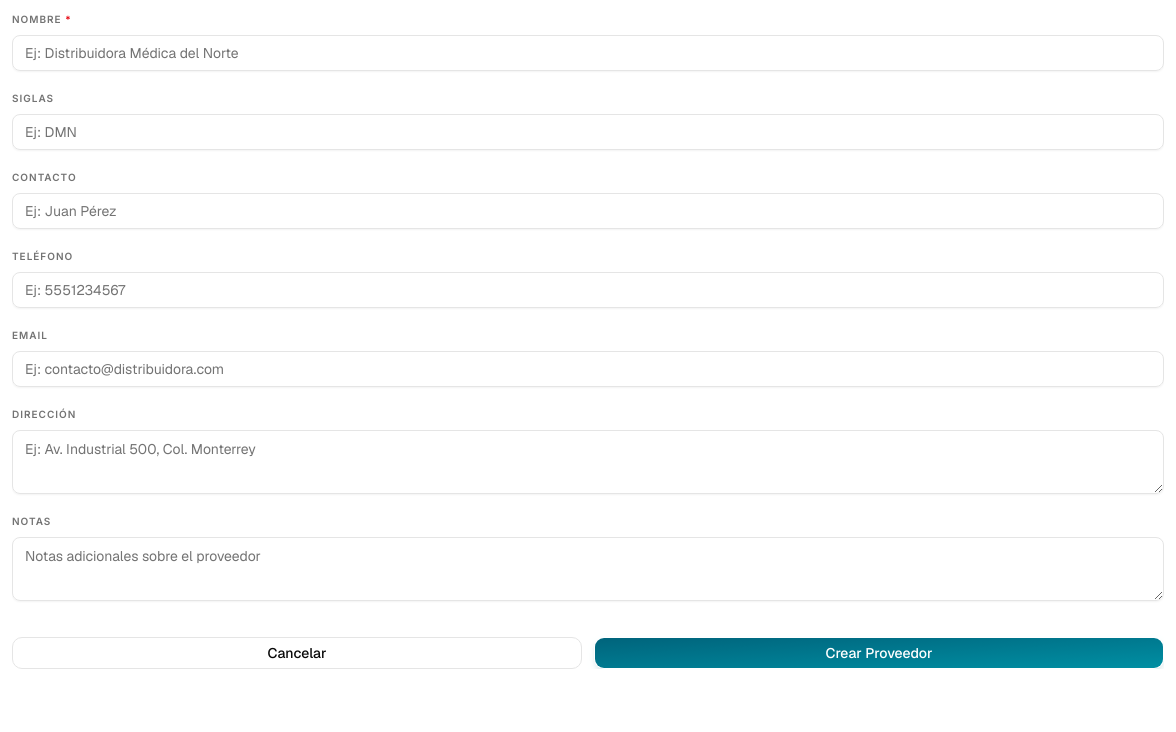
Test: SupplierForm › shows validation error when name is empty on submit
Click the button "Crear Proveedor" at (879, 653), box [594, 637, 1164, 669]
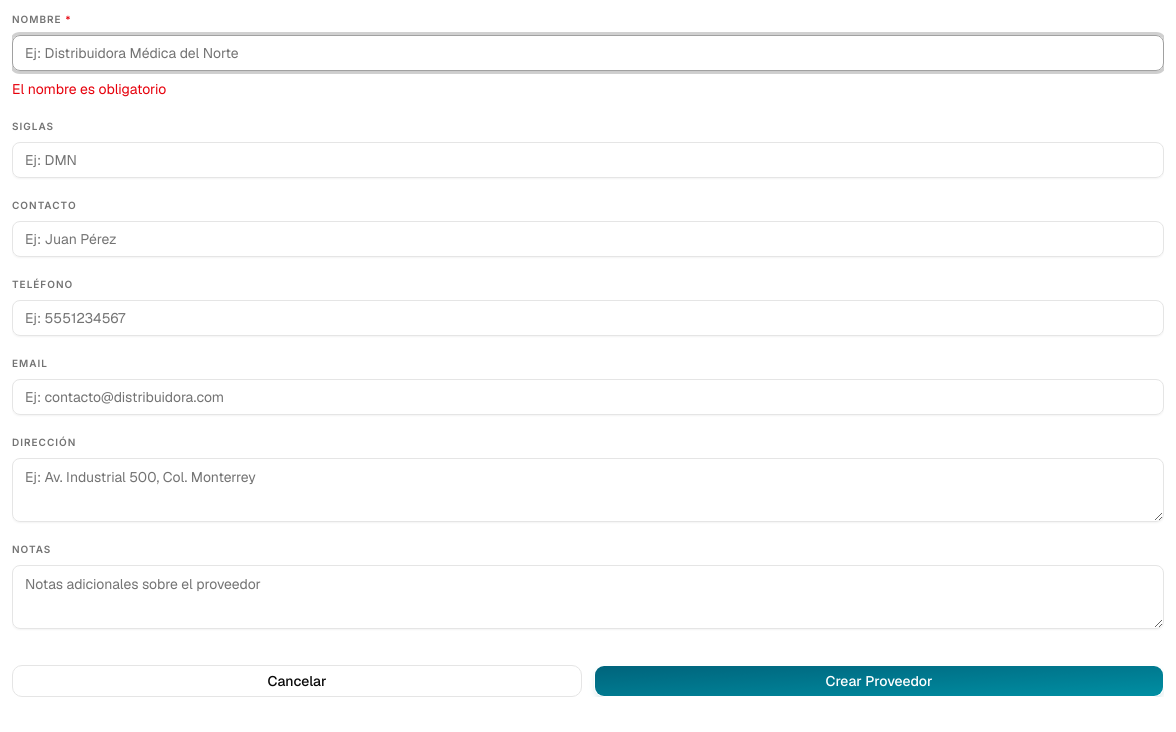
Now the text "El nombre es obligatorio" is shown, box [12, 80, 166, 98]
